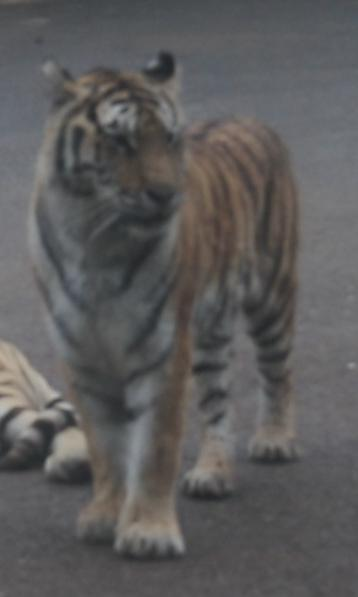tiger: (28, 52, 299, 557)
